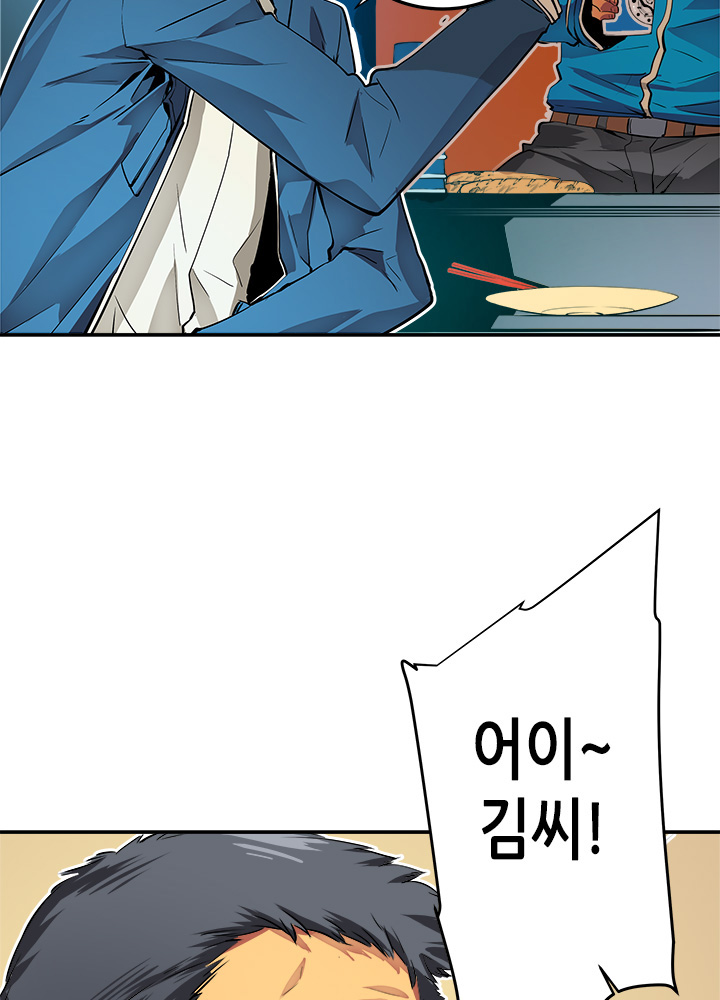dialog box: (364, 476, 719, 1000)
text: (445, 693, 638, 899)
